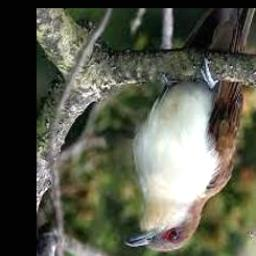Cuckoo: (124, 9, 256, 251)
